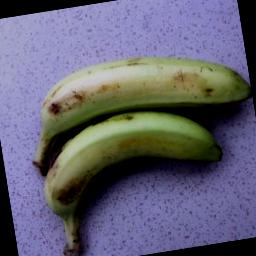Banana Ripe: (24, 42, 256, 256)
